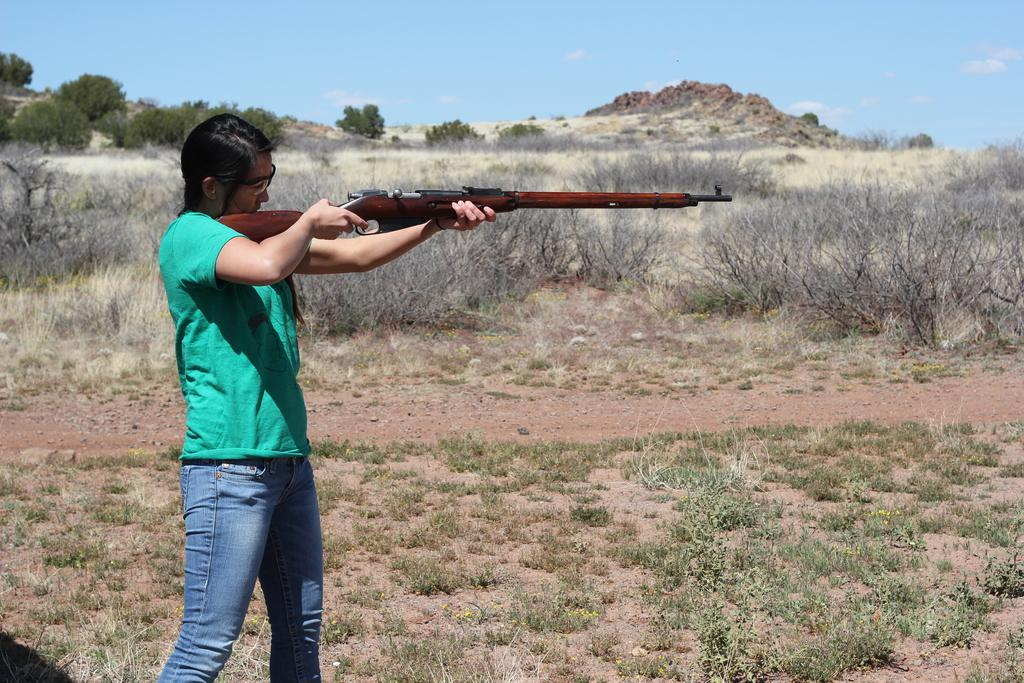Shotgun: (211, 187, 734, 236)
